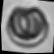correct: (2, 0, 54, 53)
